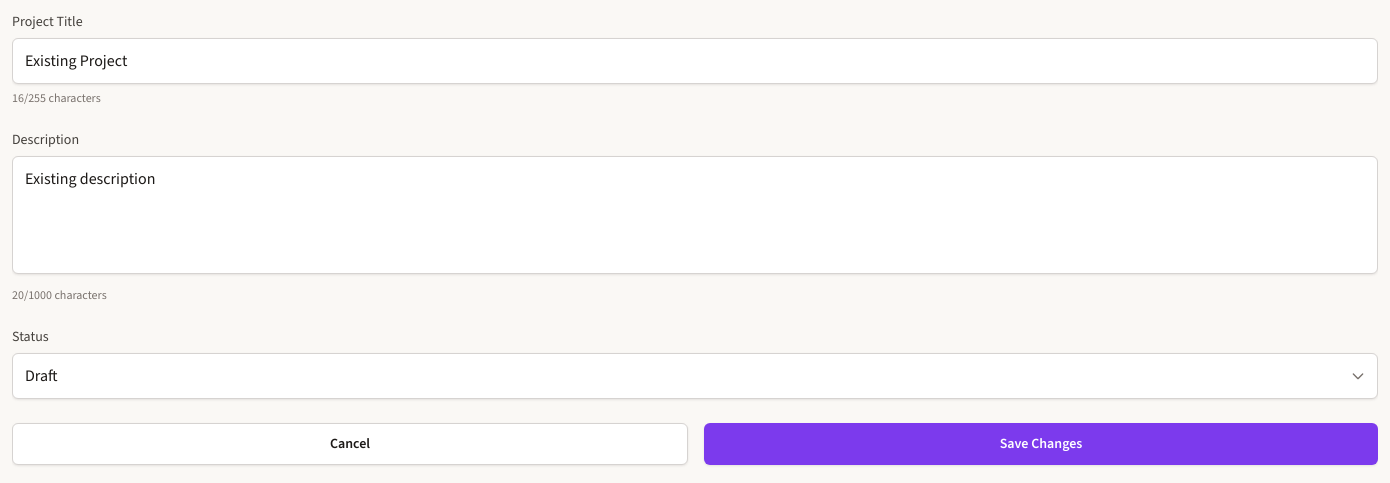
Test case: EditProjectForm › Form Submission › should show loading state while saving
The width and height of the screenshot is (1390, 483).
Click the button "Save Changes" at [1041, 444], box [704, 423, 1378, 465]
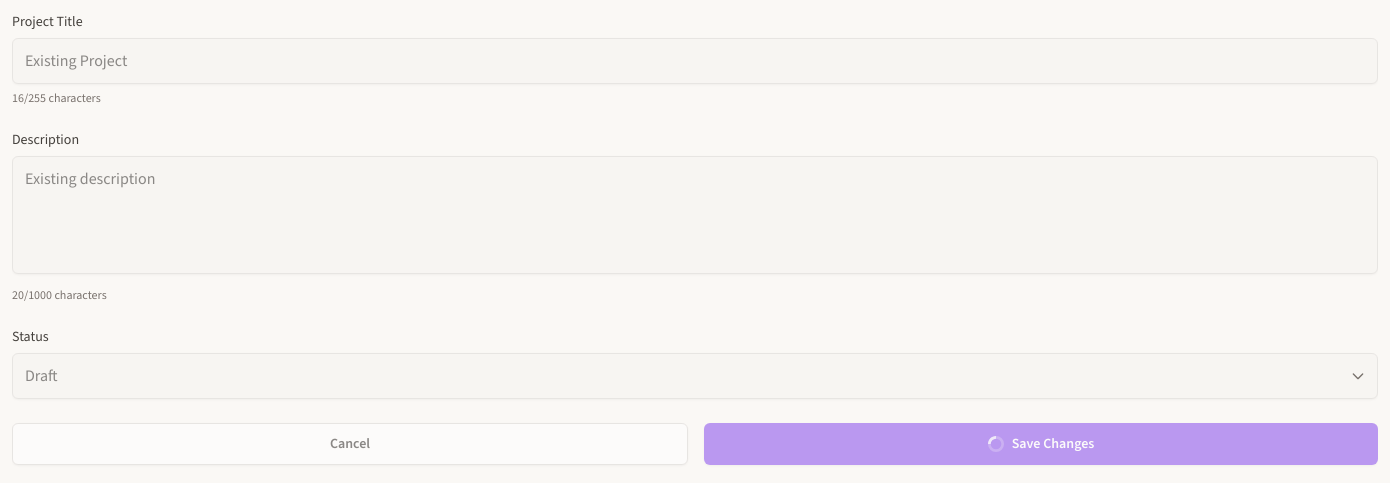
expect the button "Save Changes" is disabled: met, box [704, 423, 1378, 465]
